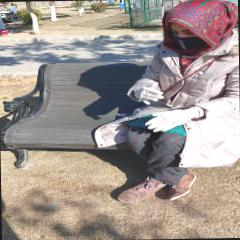gloved: (146, 109, 192, 131), (138, 82, 164, 105)
